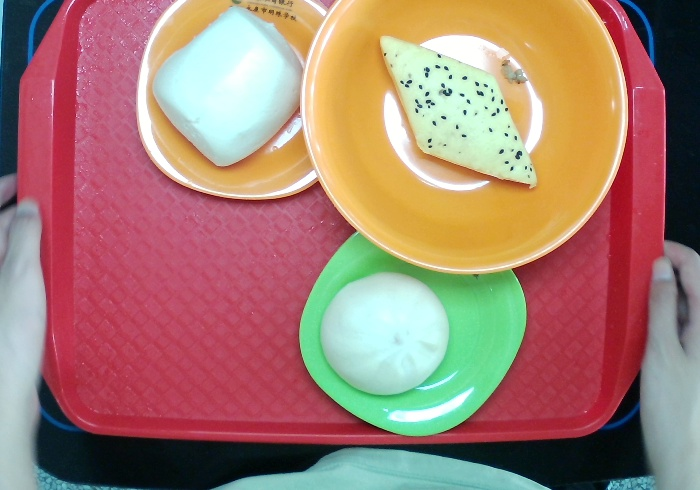YKMZ-Ju_Se_Fang_Die: (132, 3, 342, 204)
YKMZ-Ju_Se_Tang_Wan: (298, 1, 629, 269)
YKMZ-Lv_Se_Fang_Die: (296, 232, 532, 436)
